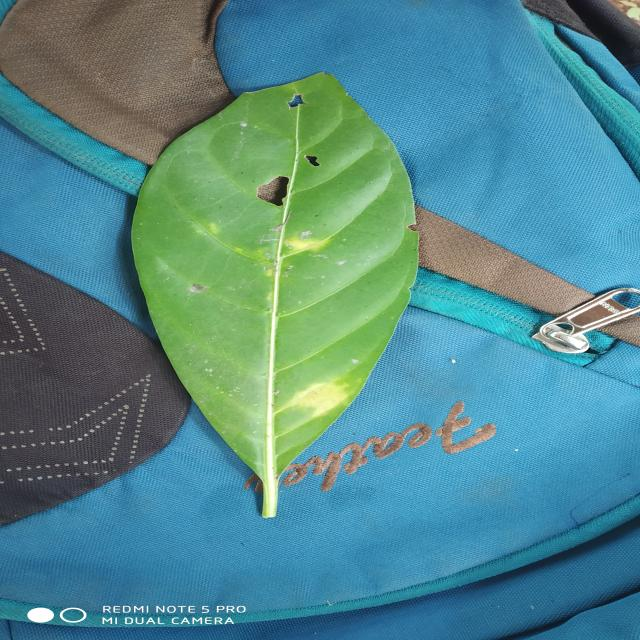anthracnosenooni: (133, 74, 418, 518)
